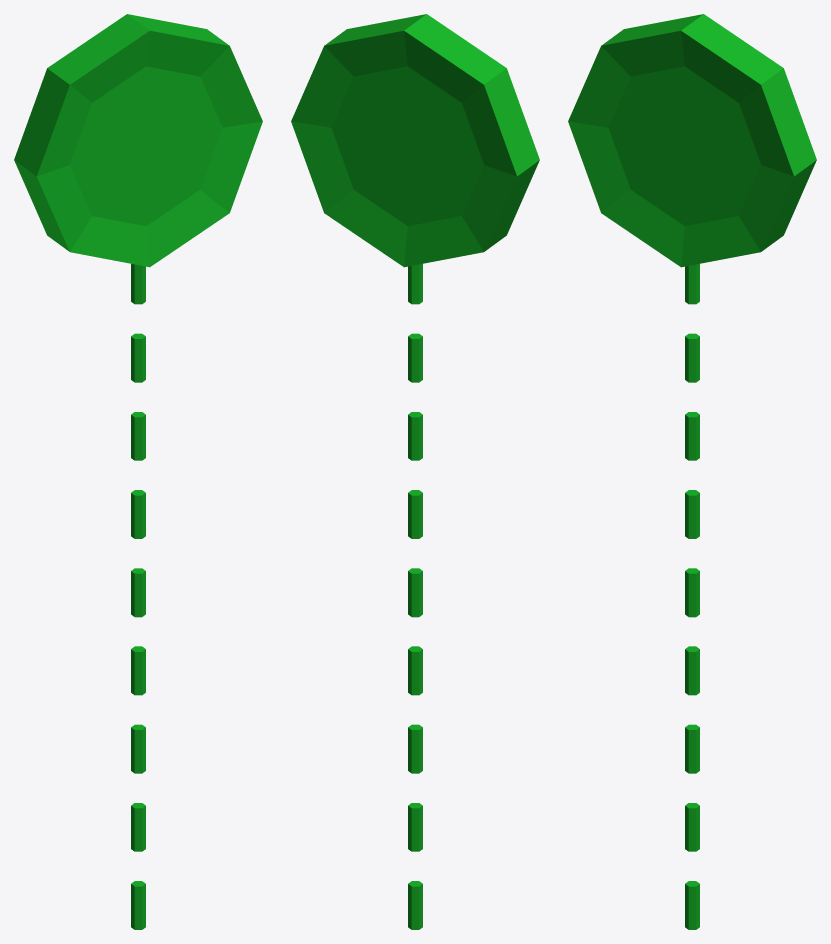
Rendered from coin-green.gltf.
3 views of the same model, side by side, from view 1: azimuth 30°, elevation 25°; view 2: azimuth 150°, elevation 25°; view 3: azimuth 330°, elevation 25° (orthographic).
Visible parts, largest first — view 1: Cylinder; view 2: Cylinder; view 3: Cylinder.
Boxes of the visible parts, x1,y1,x2,y2 form: Cylinder: [14, 14, 262, 929]; Cylinder: [291, 14, 539, 929]; Cylinder: [568, 14, 816, 929].
Bounding box in the file's own units: 1.01 × 3.85 × 0.1757.
